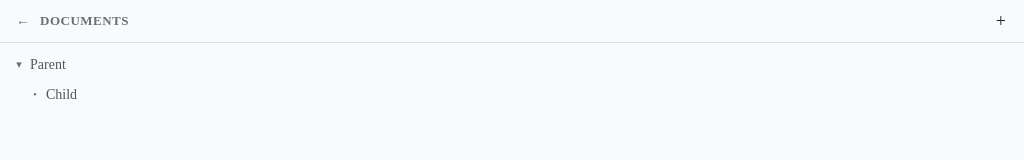
PageTree › reports the toggle state through aria-expanded
This screenshot has width=1024, height=160.
Step 1. Click the button named "Collapse Parent" → [19, 64], box [12,58,26,70]
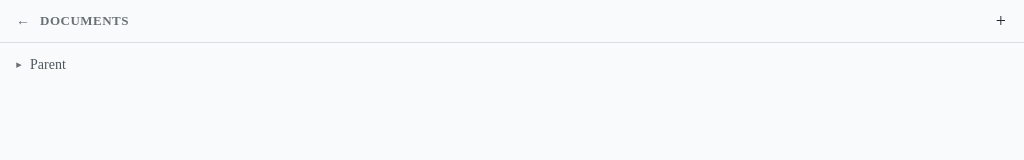
Result: the button named "Expand Parent" is collapsed at [12,58,26,70]
